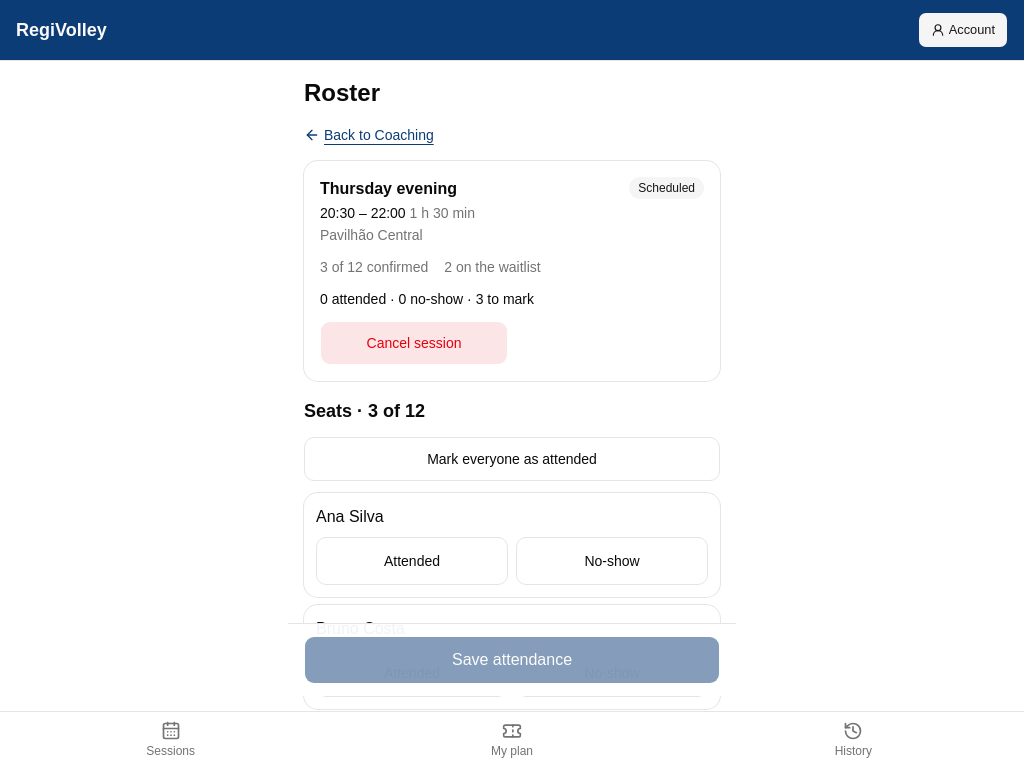
marking attendance › lets one tap mark everyone as attended, and a toggle then correct a single person
Click the button "Mark everyone as attended". click: (512, 459)
box: [304,437,720,481]
(page scrolled)
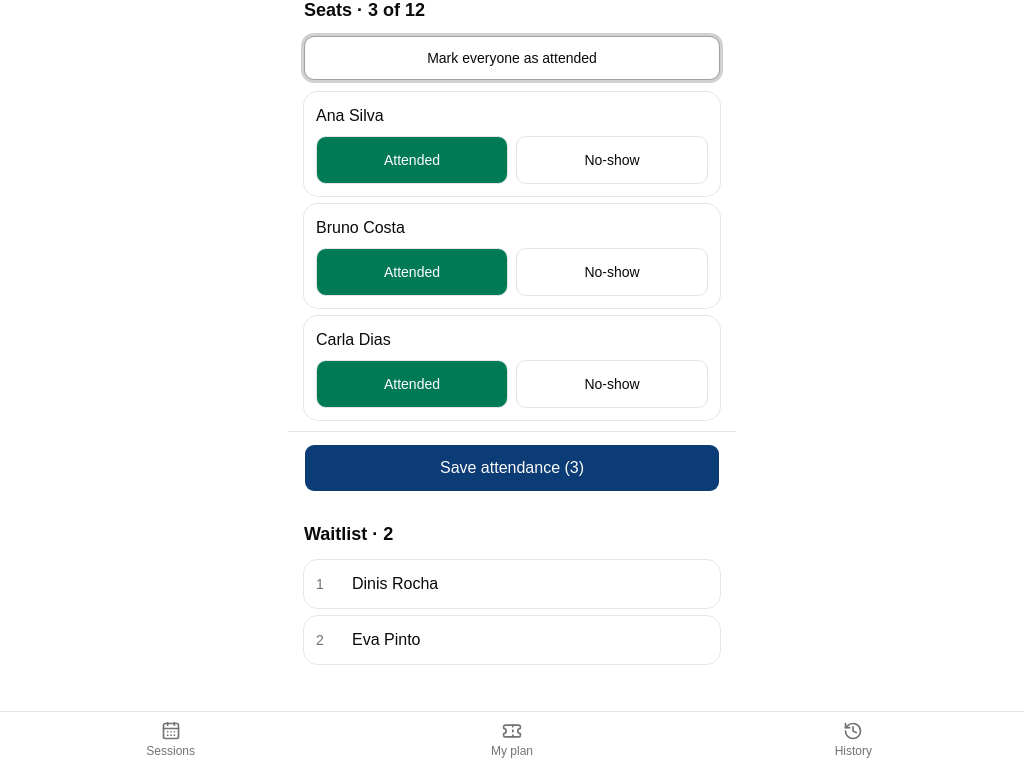
Click the radio button labelled "No-show" below "Carla Dias". click: (612, 384)
box: [516,360,708,408]
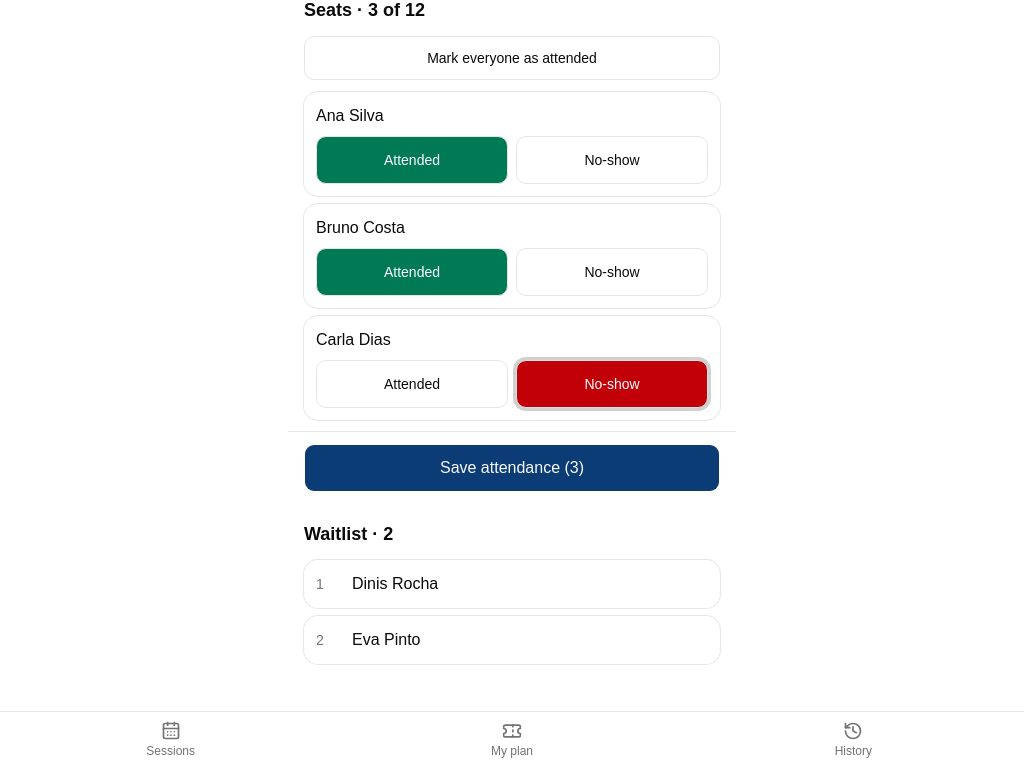
Click the button "Save attendance (3)". click: (512, 468)
box: [304,444,720,492]
(page scrolled)
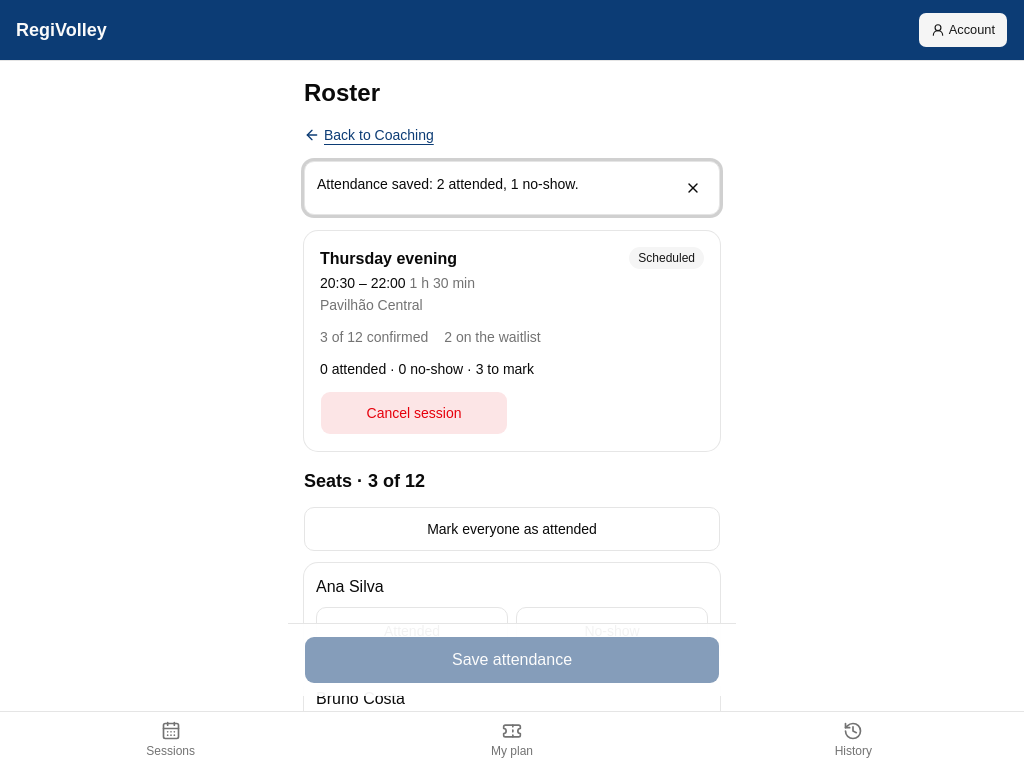
Check: the message reads "Attendance saved: 2 attended, 1 no-show.", box [317,176,578,192]
